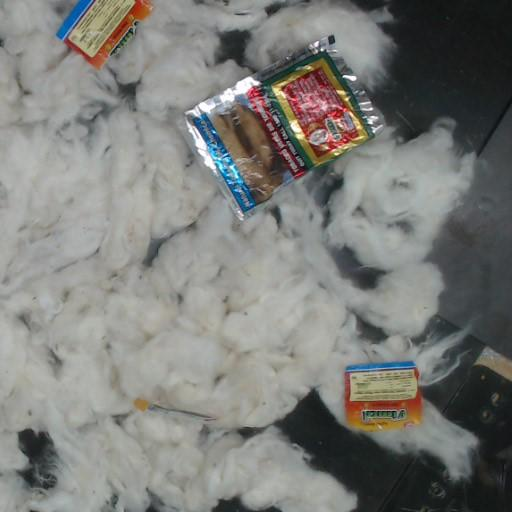conveyor belt: (374, 0, 511, 149)
cotton: (0, 0, 474, 511)
packet: (185, 35, 383, 220), (58, 0, 151, 67), (345, 362, 420, 431)
